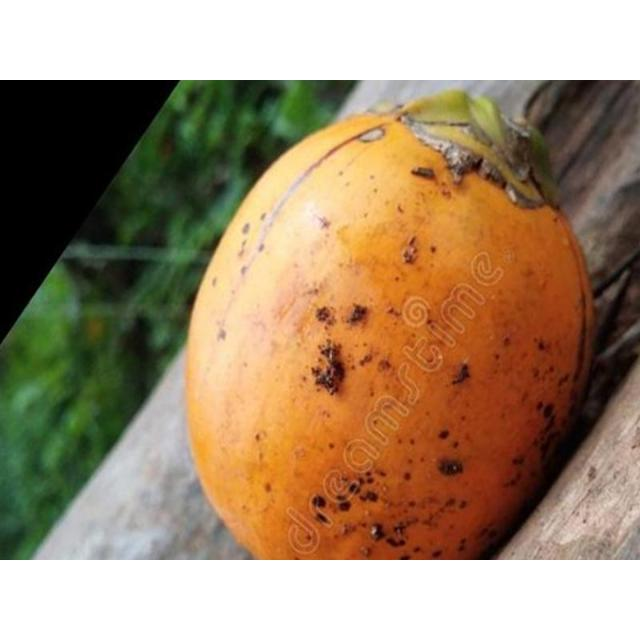good: (180, 88, 603, 559)
